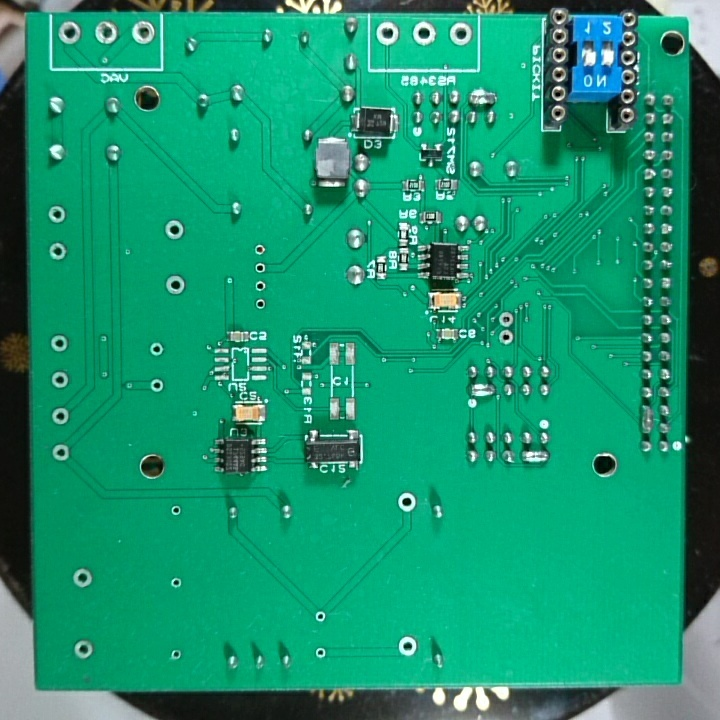F: (446, 20, 474, 48), (93, 19, 119, 49), (374, 20, 402, 47), (410, 20, 439, 46), (162, 272, 191, 298), (57, 20, 83, 46), (130, 19, 155, 46), (396, 489, 419, 518), (69, 566, 94, 592), (396, 633, 419, 660), (162, 218, 187, 242), (71, 636, 94, 660), (49, 441, 72, 465), (46, 240, 70, 263), (44, 203, 68, 226), (49, 405, 71, 429), (49, 369, 71, 393), (48, 331, 69, 353), (146, 340, 165, 360), (166, 501, 186, 520), (497, 309, 515, 329), (167, 574, 184, 595), (497, 327, 514, 348), (168, 645, 185, 665), (148, 377, 166, 395), (311, 607, 328, 626), (313, 643, 328, 664), (252, 260, 269, 277), (252, 296, 269, 313), (252, 241, 268, 258), (253, 278, 268, 294)
P: (635, 400, 657, 438), (467, 87, 501, 109), (519, 446, 551, 468), (467, 380, 498, 400)
